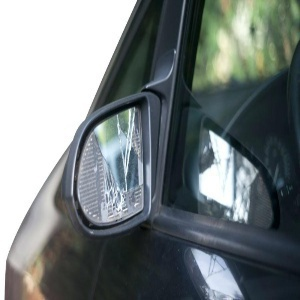side_mirror: (61, 95, 162, 238)
